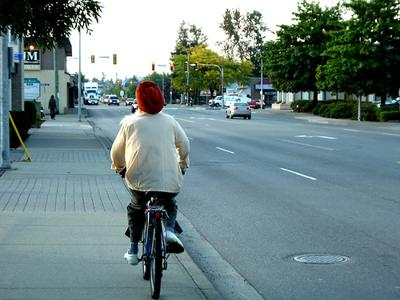person: (110, 81, 192, 266)
